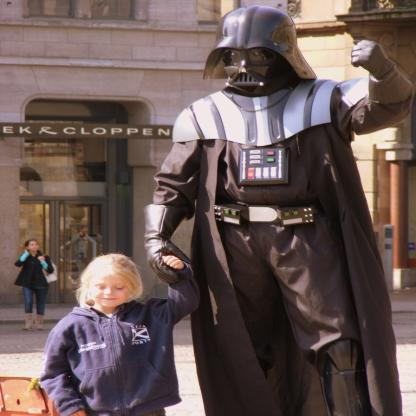Helmet: (201, 3, 323, 82)
